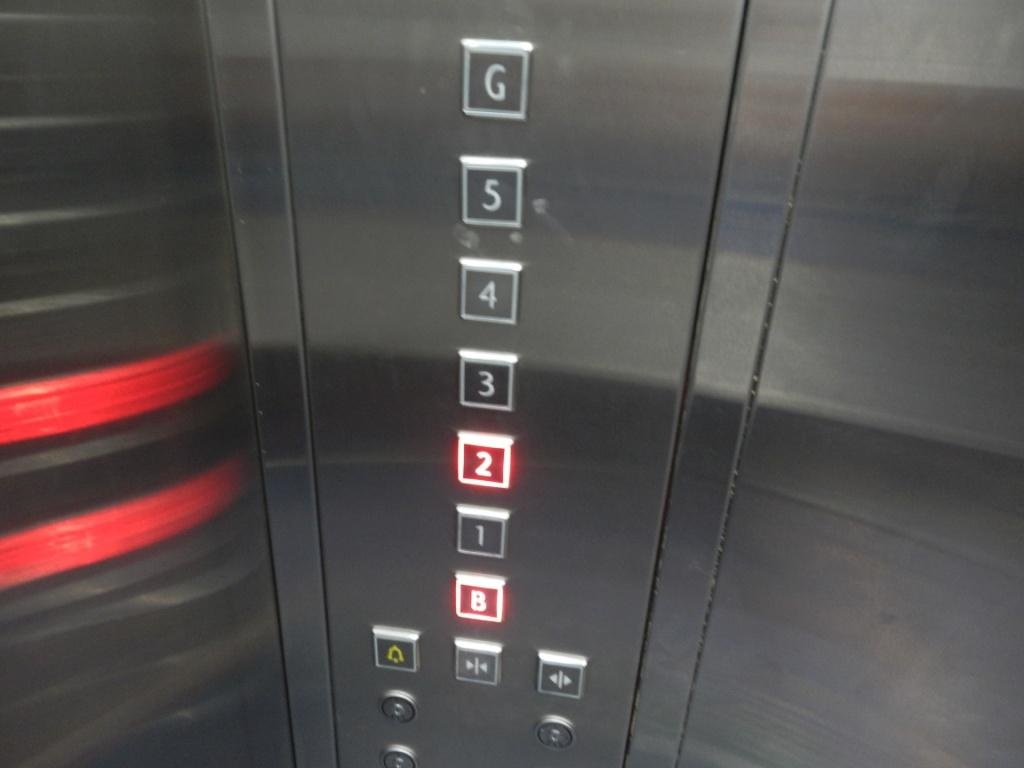1: (454, 501, 510, 561)
2: (453, 428, 512, 490)
3: (455, 343, 519, 414)
4: (458, 254, 526, 328)
5: (460, 155, 530, 230)
B: (452, 570, 507, 625)
G: (460, 37, 536, 122)
alarm: (371, 622, 423, 676)
close: (450, 637, 506, 688)
open: (531, 646, 589, 703)
